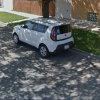Car: (9, 11, 77, 60)
